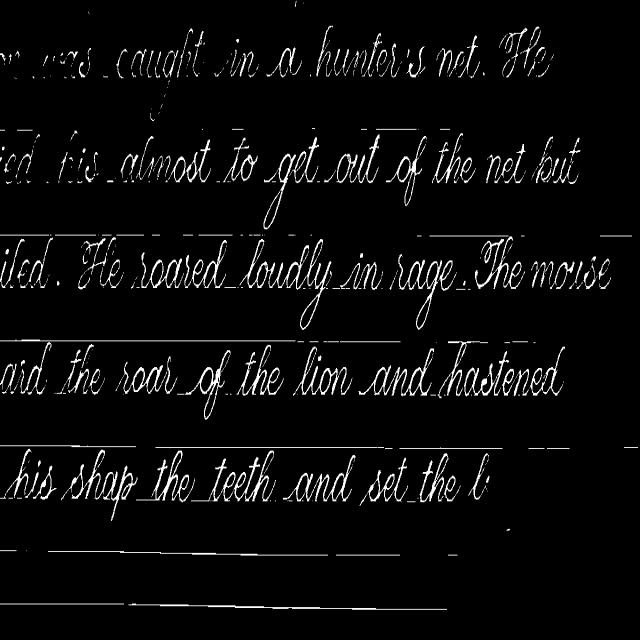noise: (0, 601, 446, 612), (46, 548, 401, 558), (0, 338, 401, 343), (155, 445, 394, 451), (0, 443, 136, 450), (399, 446, 504, 451), (526, 445, 571, 452), (54, 232, 112, 236), (0, 232, 52, 236), (429, 234, 509, 236), (181, 233, 234, 236), (115, 232, 148, 236), (376, 127, 419, 130), (621, 445, 640, 450), (501, 340, 530, 343), (0, 548, 16, 553), (239, 233, 263, 236), (448, 552, 458, 556), (149, 233, 161, 236), (599, 235, 632, 236), (520, 235, 525, 237)
not-noise: (0, 235, 610, 291), (0, 128, 478, 190), (116, 28, 486, 78), (436, 341, 564, 396), (481, 136, 580, 184), (62, 450, 136, 507), (206, 450, 276, 501), (360, 348, 433, 396), (283, 455, 355, 501), (498, 28, 554, 78), (0, 342, 51, 394), (2, 449, 54, 499), (295, 351, 352, 395), (236, 344, 284, 395), (194, 351, 230, 418), (116, 356, 177, 394), (59, 343, 104, 394), (360, 458, 408, 505), (154, 450, 194, 501), (420, 452, 458, 501), (40, 48, 100, 78), (263, 170, 289, 228), (470, 453, 489, 499), (0, 52, 19, 66)
